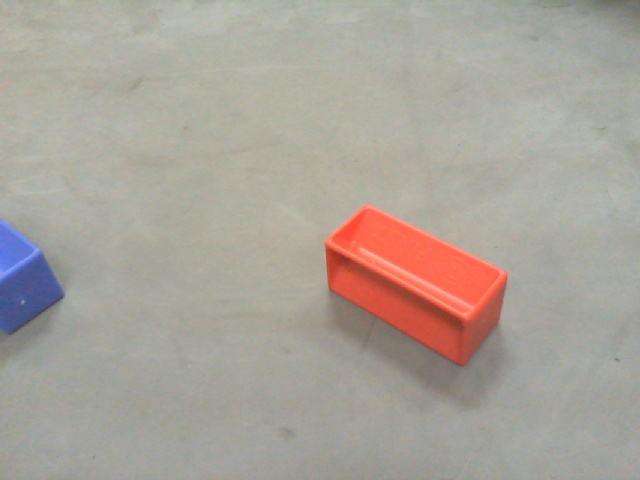BlueSample: (1, 216, 66, 337)
RedSample: (322, 200, 506, 369)
